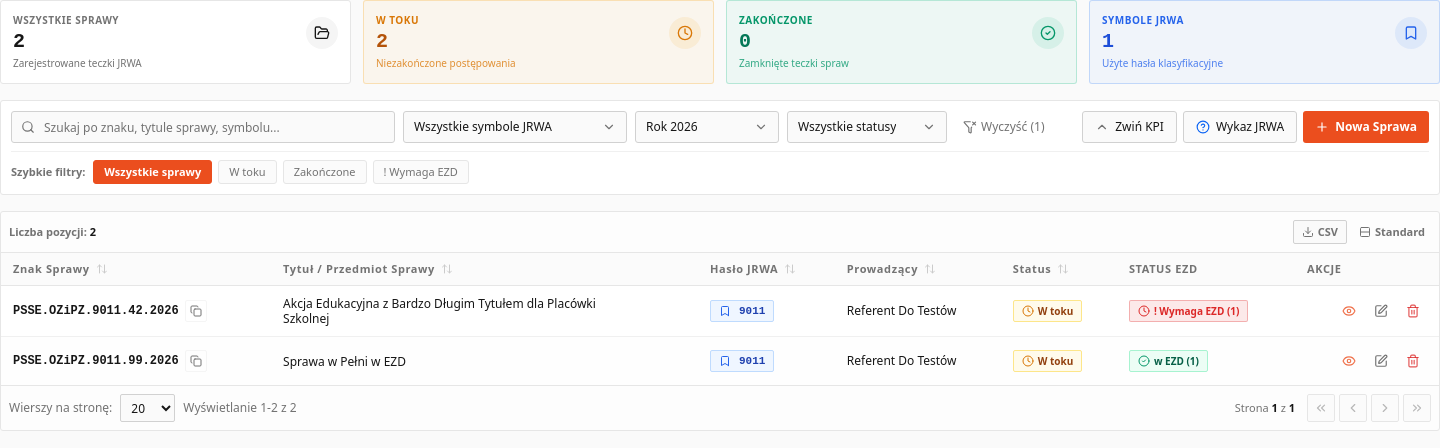
Test: Sprawy JRWA: przypadki brzegowe › EZD Status Calculations and Alerts › JrwaSection: filter chip '! Wymaga EZD' isolates only cases requiring EZD registration
Expected: the text "Akcja Edukacyjna z Bardzo Długim Tytułem dla Placówki Szkolnej" is shown, x1=283 y1=296 x2=603 y2=326
Expected: the text "Sprawa w Pełni w EZD" is shown, x1=283 y1=352 x2=406 y2=370
Click the button "! Wymaga EZD" at (421, 172), box x1=372 y1=160 x2=469 y2=184
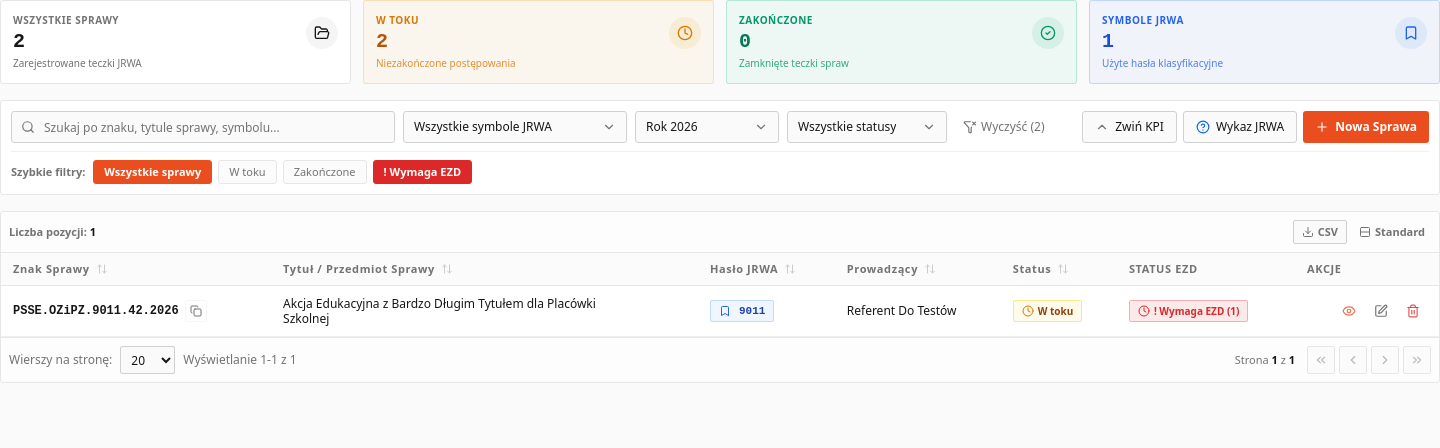
Expected: the text "Akcja Edukacyjna z Bardzo Długim Tytułem dla Placówki Szkolnej" is shown, x1=283 y1=296 x2=603 y2=326
Now the text "Sprawa w Pełni w EZD" is gone
